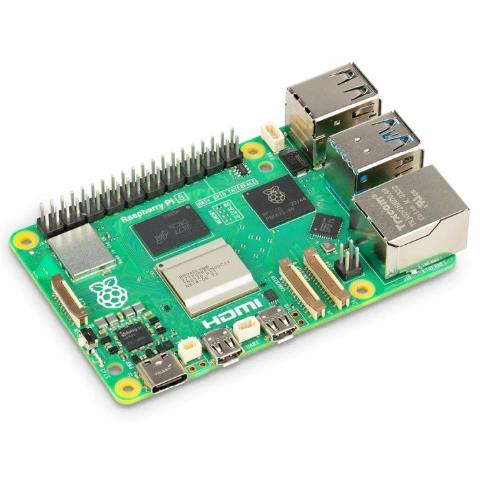Raspberry Pi 5: (6, 58, 480, 414)
